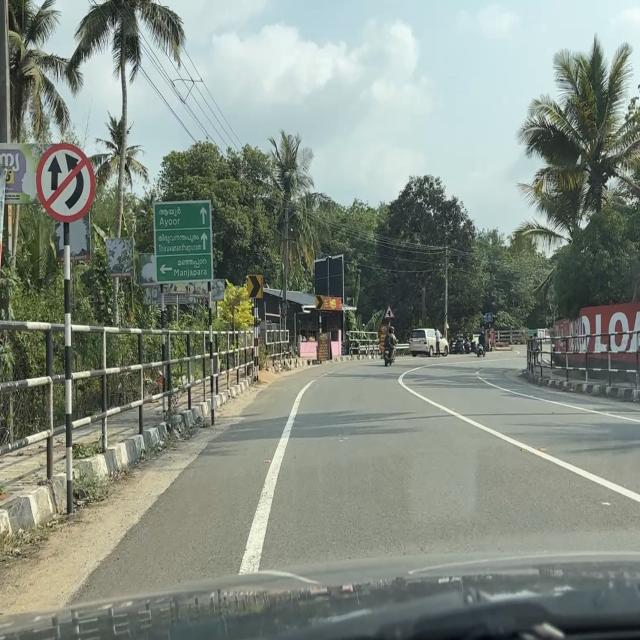GENERAL: (153, 198, 215, 284)
OVERTAKING_PROHIBITED: (36, 142, 96, 224)
SIDE_ROAD_LEFT: (384, 304, 395, 320)
TURN_RIGHT: (248, 275, 262, 299), (315, 296, 324, 310)
